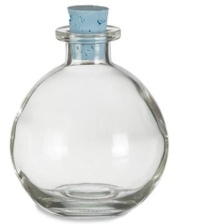bottle: (0, 20, 184, 221)
